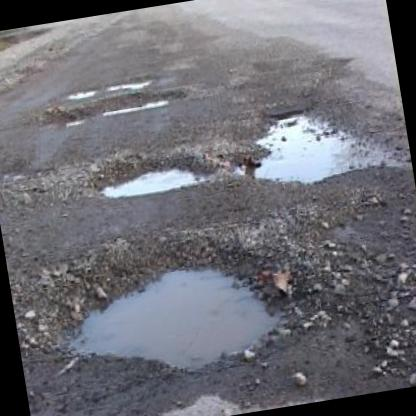pothole: (27, 210, 322, 395), (228, 96, 366, 194), (90, 144, 221, 202), (40, 84, 190, 132), (54, 72, 158, 100)
